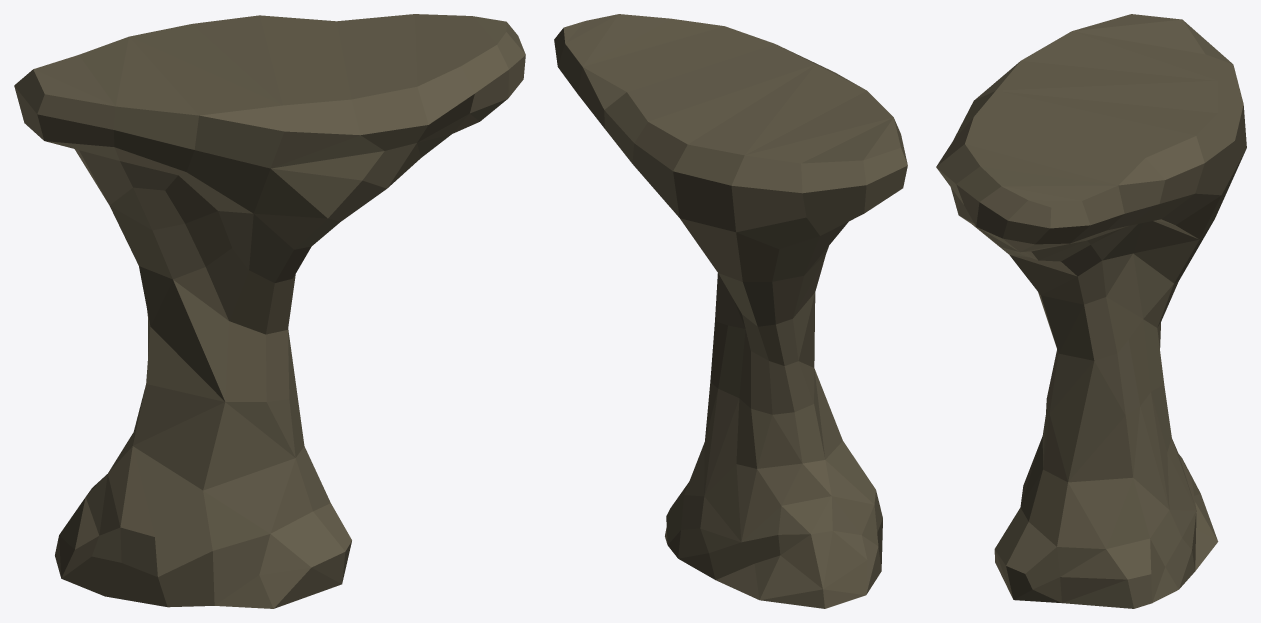
File: Pillar-B05.fbx
3 renders of one model, left to right at view 1: azimuth 30°, elevation 25°; view 2: azimuth 150°, elevation 25°; view 3: azimuth 270°, elevation 25°, orthographic. The views are drawn at different scales.
Parts seen in each view (by area): view 1: Pillar-B05; view 2: Pillar-B05; view 3: Pillar-B05.
Boxes of the visible parts, left/top/right/bottom form: Pillar-B05: left=14, top=14, right=525, bottom=608; Pillar-B05: left=554, top=14, right=907, bottom=608; Pillar-B05: left=936, top=14, right=1246, bottom=608.
Bounding box in the file's own units: 306 × 198 × 339.
